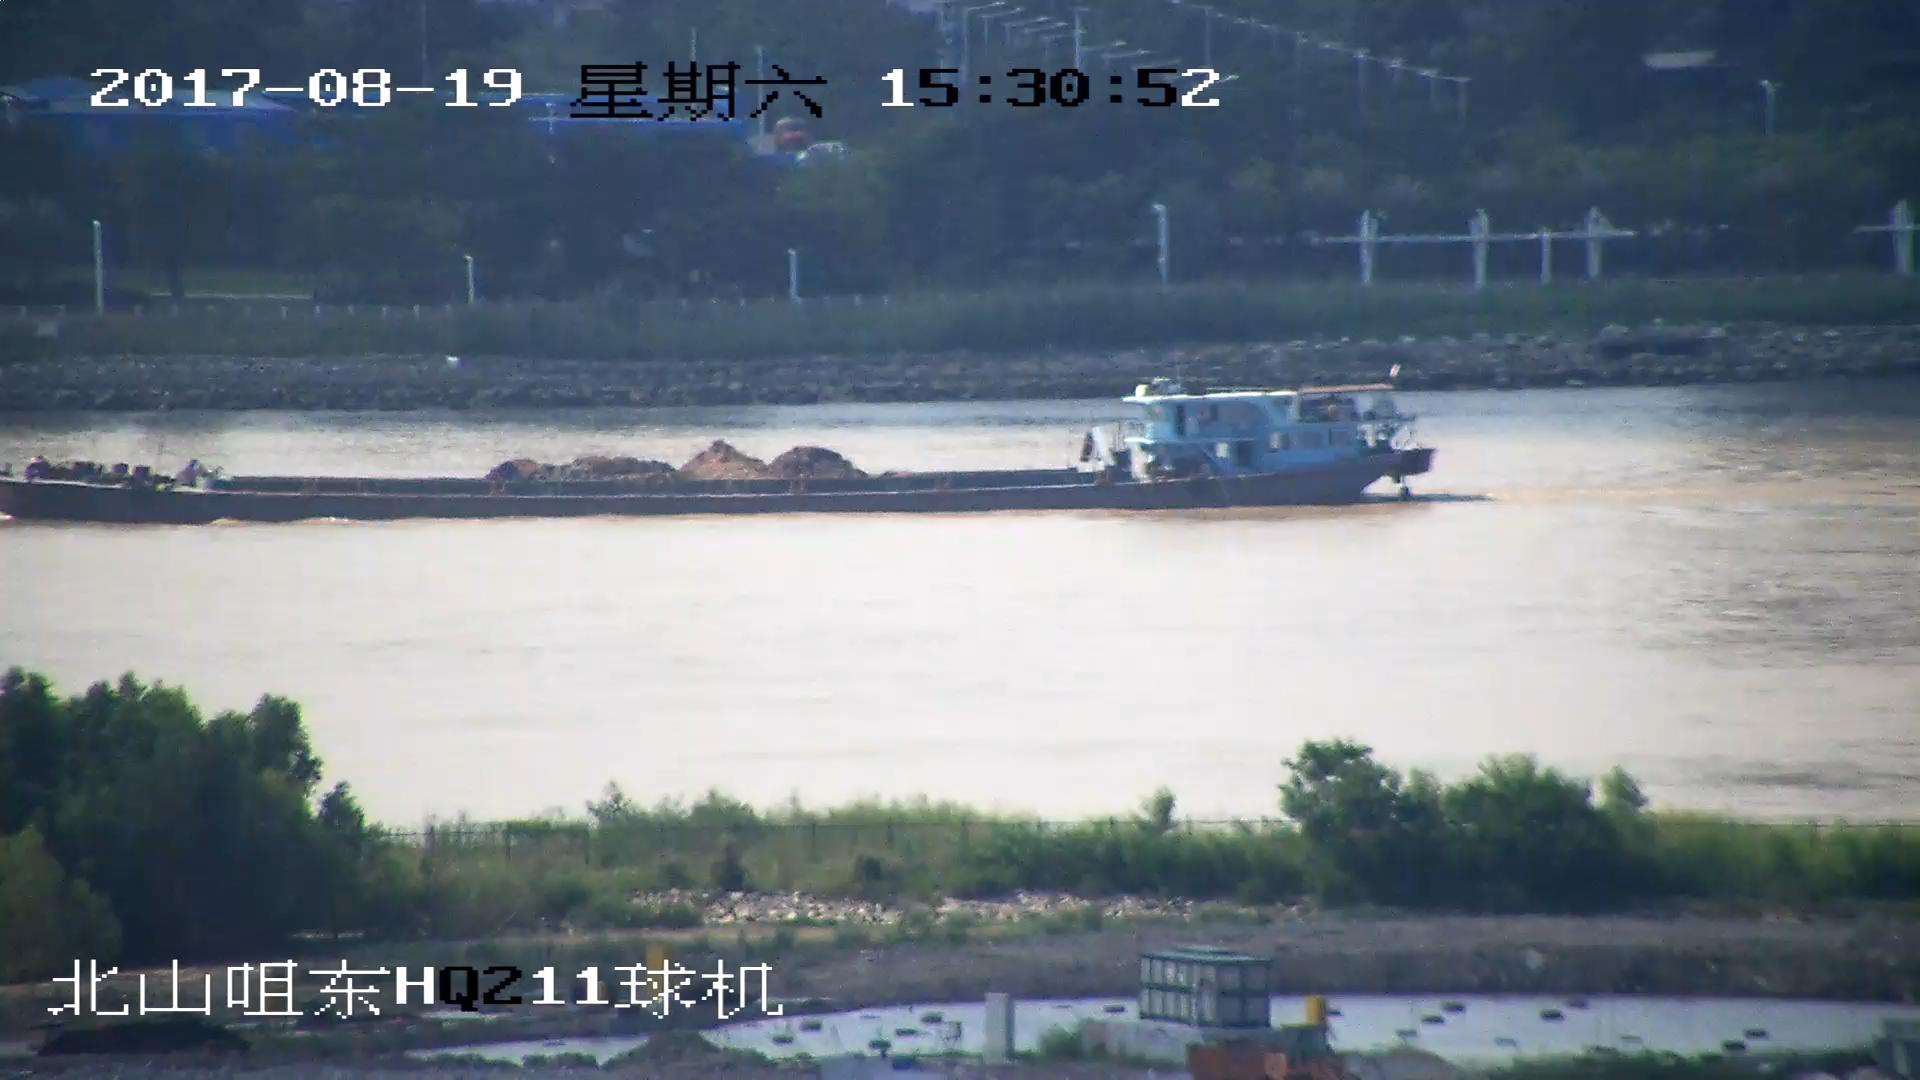ore carrier: (1, 375, 1448, 524)
